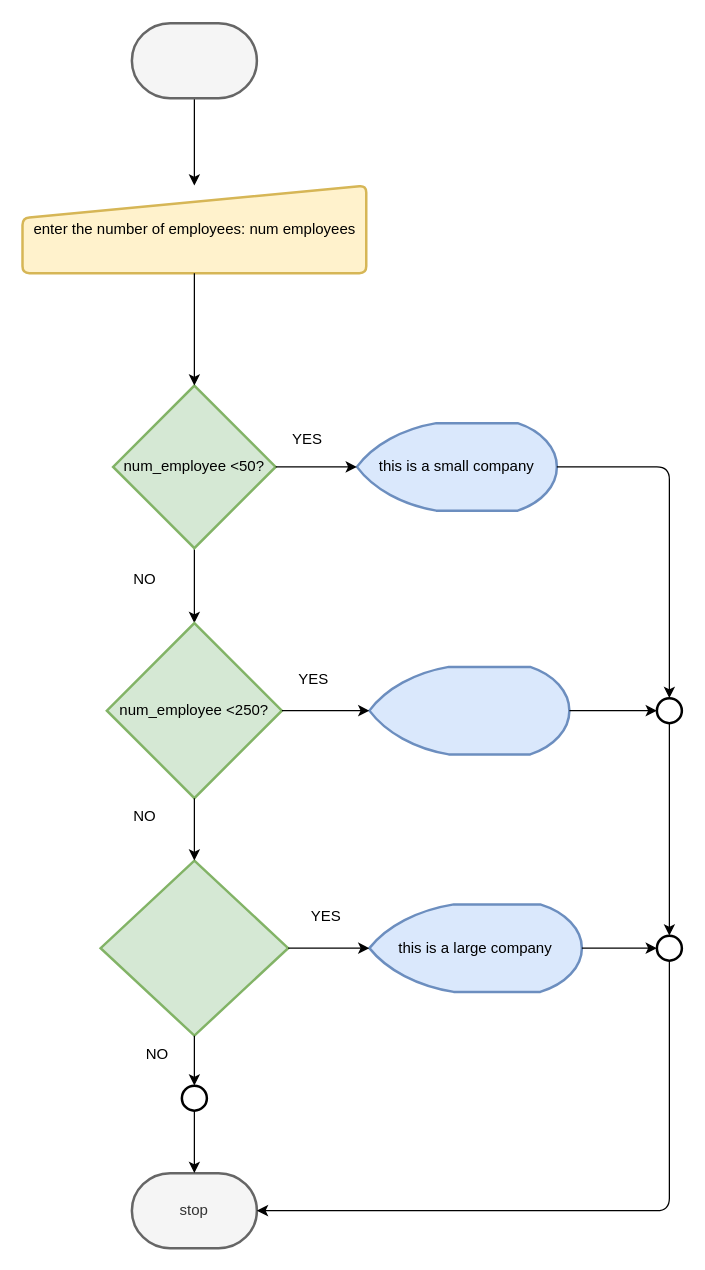
The diagram is 705 pixels wide and 1270 high, and some of its shapes have lost their labels. The shapes that lost their labels are listed below. From the top down, each one's box as (x1, y1, x2, y2) in pixels, then its label:
(130, 21, 258, 99): start
(368, 665, 570, 755): this is a medium size company
(99, 859, 289, 1036): num_employee >=250?
